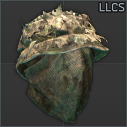Jack Pyke Hunting LLCS boonie hat: (0, 0, 127, 127)
